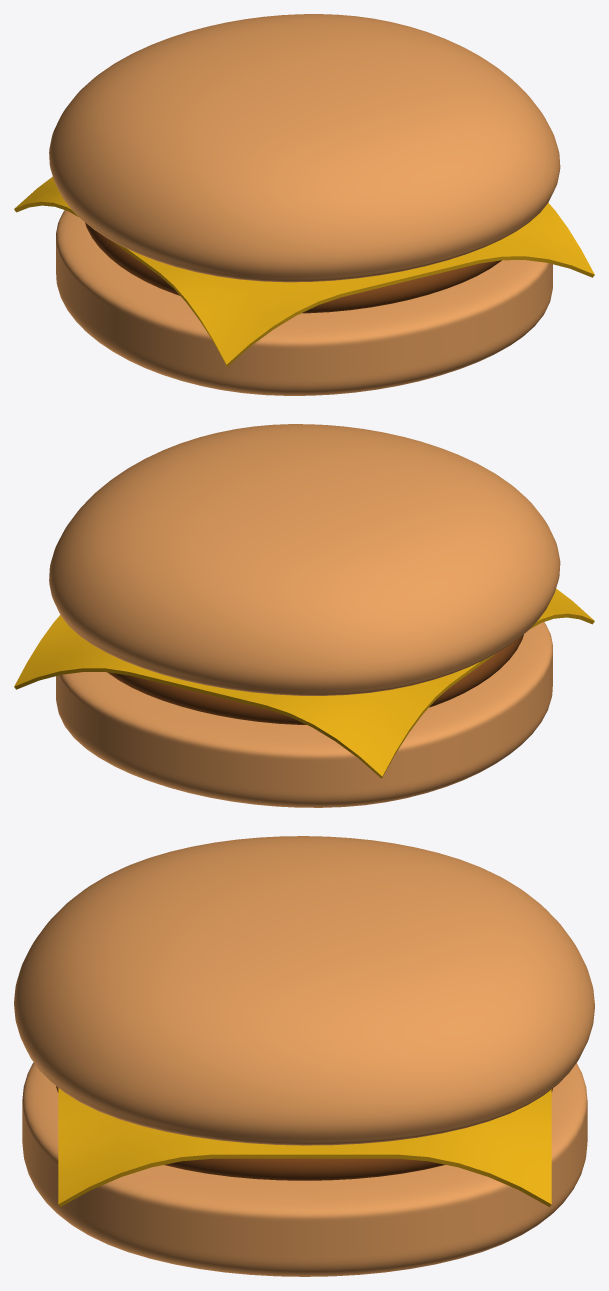
The model's file is hamburger.glb.
3 renders of one model, top to bottom at view 1: azimuth 30°, elevation 25°; view 2: azimuth 150°, elevation 25°; view 3: azimuth 270°, elevation 25°, orthographic. The views are drawn at different scales.
Parts seen in each view (by area): view 1: top-bun, bottom-bun, cheese, meat; view 2: top-bun, bottom-bun, cheese, meat; view 3: top-bun, bottom-bun, cheese, meat.
Part boxes in pixels (box(x1,y1,x2,y2)): top-bun: box(49, 14, 560, 282); bottom-bun: box(56, 210, 552, 395); cheese: box(14, 176, 594, 366); meat: box(85, 222, 501, 313); top-bun: box(49, 424, 560, 695); bottom-bun: box(56, 622, 552, 807); cheese: box(14, 588, 594, 778); meat: box(107, 634, 523, 724); top-bun: box(14, 836, 594, 1145); bottom-bun: box(22, 1062, 587, 1276); cheese: box(58, 1088, 551, 1207); meat: box(56, 1086, 552, 1180).
Bounding box in the file's own units: 9.43 × 5.17 × 9.42.
